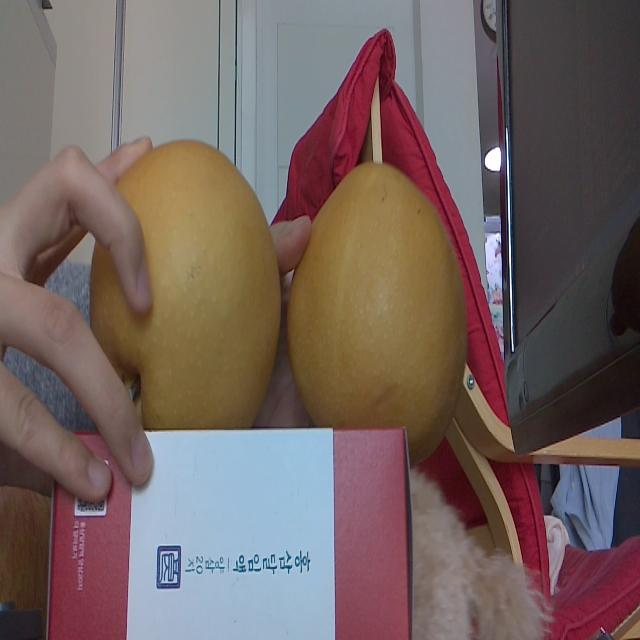pear: (92, 140, 281, 427), (288, 162, 466, 426)
